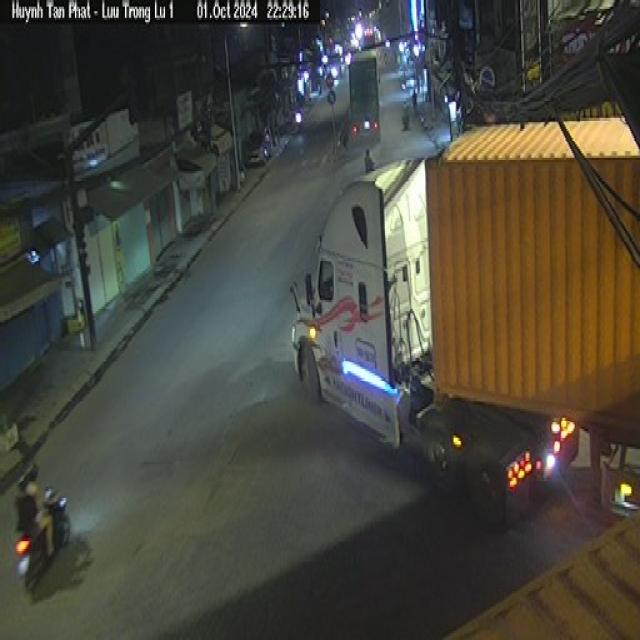container-truck: (288, 119, 640, 508), (428, 498, 640, 640)
motorcycle: (14, 482, 71, 596)
